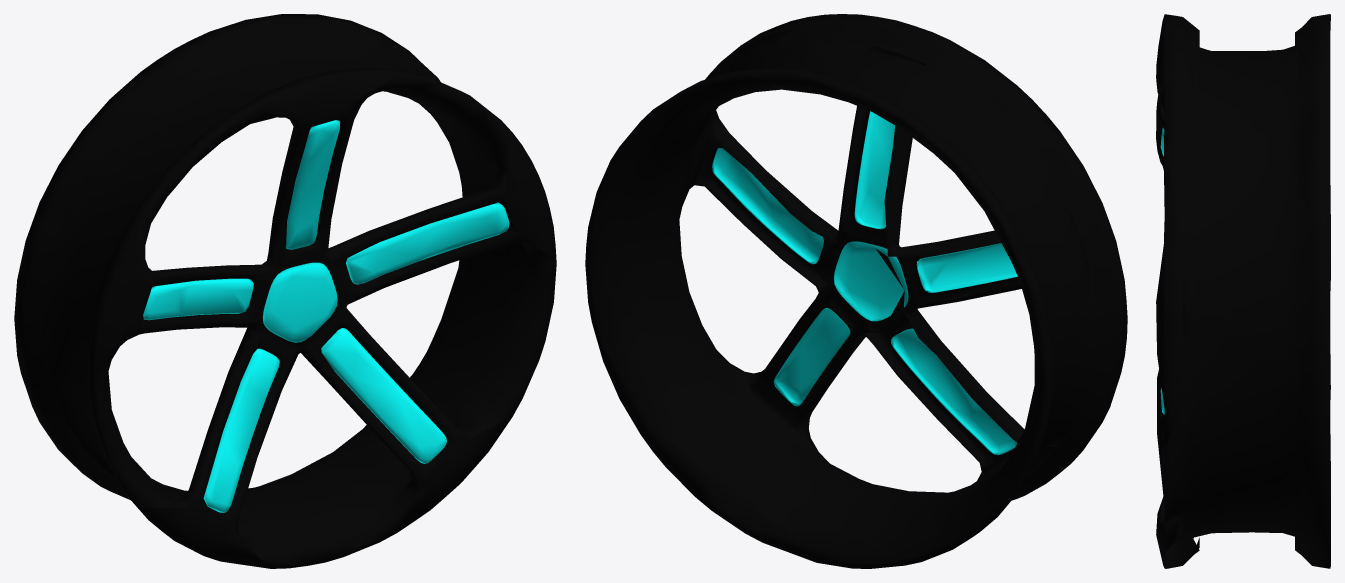
The model's file is Ring2.fbx.
3 renders of one model, left to right at view 1: azimuth 30°, elevation 25°; view 2: azimuth 150°, elevation 25°; view 3: azimuth 270°, elevation 25°, orthographic. The views are drawn at different scales.
Visible parts, largest first — view 1: 9; view 2: 9; view 3: 9.
Part boxes in pixels (box(x1,y1,x2,y2)): 9: box(14, 14, 556, 568); 9: box(585, 14, 1127, 568); 9: box(1156, 14, 1330, 568).
Bounding box in the file's own units: 0.0402 × 0.0402 × 0.0126.
